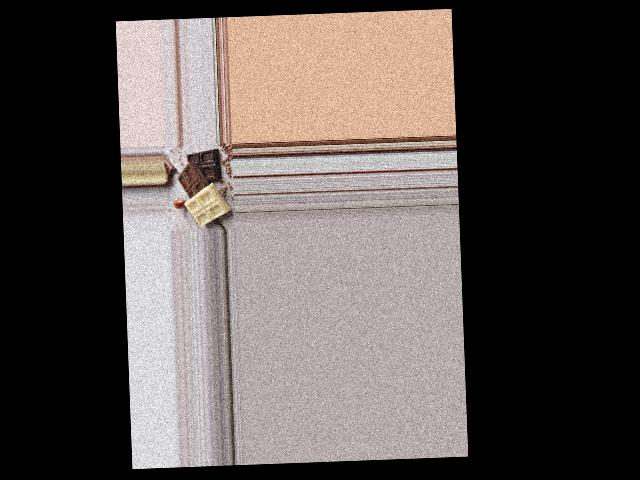chocolate: (176, 145, 226, 226)
